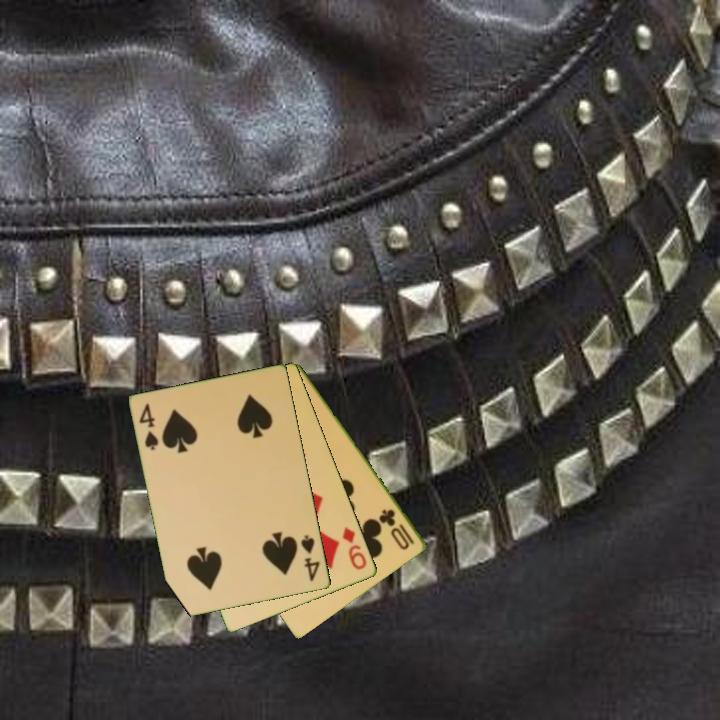10c: (376, 505, 418, 553)
4s: (136, 400, 162, 453), (298, 531, 323, 585)
9d: (339, 523, 370, 573)
